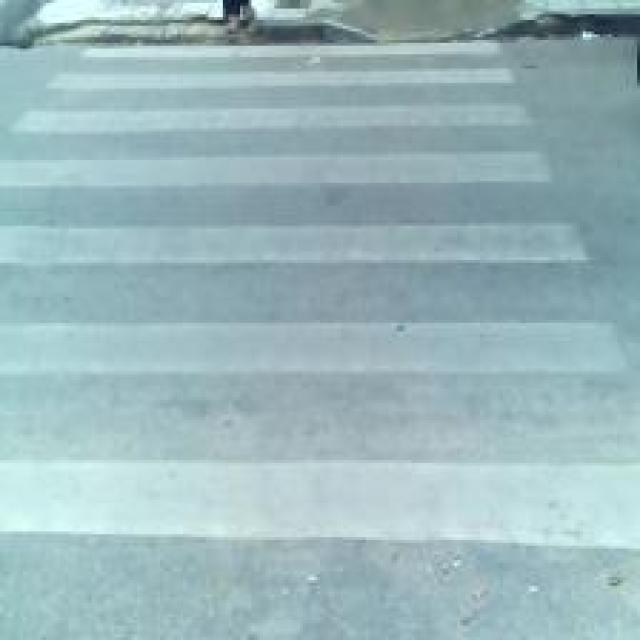zebra: (80, 40, 557, 640)
